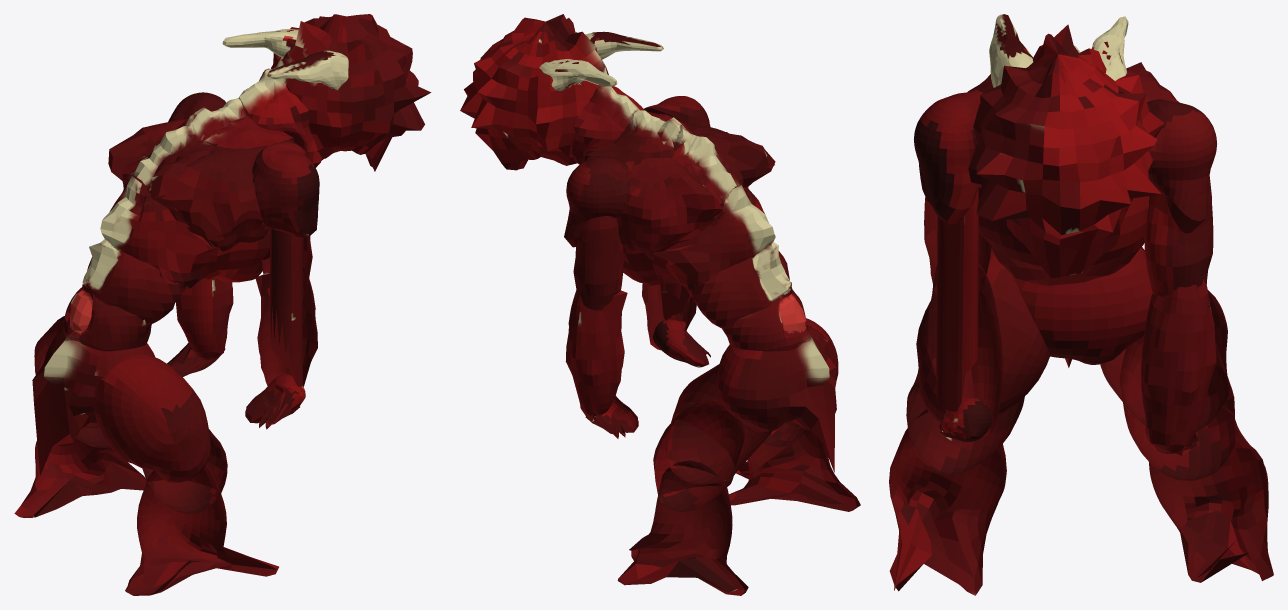
The model's file is Daemon_demo.fbx.
3 renders of one model, left to right at view 1: azimuth 30°, elevation 25°; view 2: azimuth 150°, elevation 25°; view 3: azimuth 270°, elevation 25°, orthographic. The views are drawn at different scales.
Visible parts, largest first — view 1: Sphere.011; view 2: Sphere.011; view 3: Sphere.011.
Boxes of the visible parts, x1,y1,x2,y2 form: Sphere.011: (14,14,431,595); Sphere.011: (460,14,860,595); Sphere.011: (889,14,1273,595).
Size of the model in its own units: 422 by 528 by 286.
